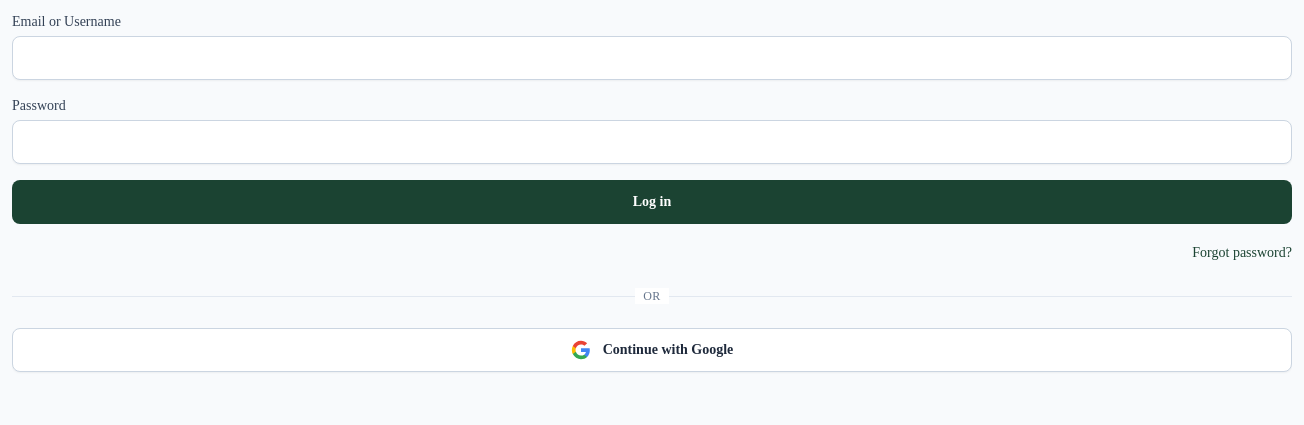
Test case: LoginForm › displays Google provider error returned by signInWithGoogle
The width and height of the screenshot is (1304, 425).
What coordinates should you click on to do the following:
click the button "Continue with Google"
I would click on:
 (652, 350)
Its box is [12,328,1292,372].
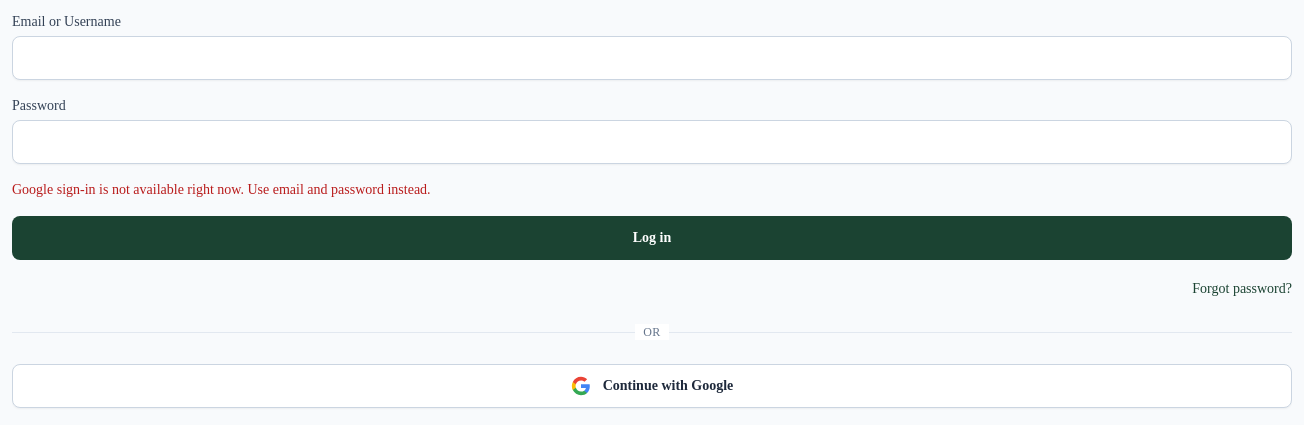
Check: the text "Google sign-in is not available right now. Use email and password instead." is shown, box [12,182,431,197]
